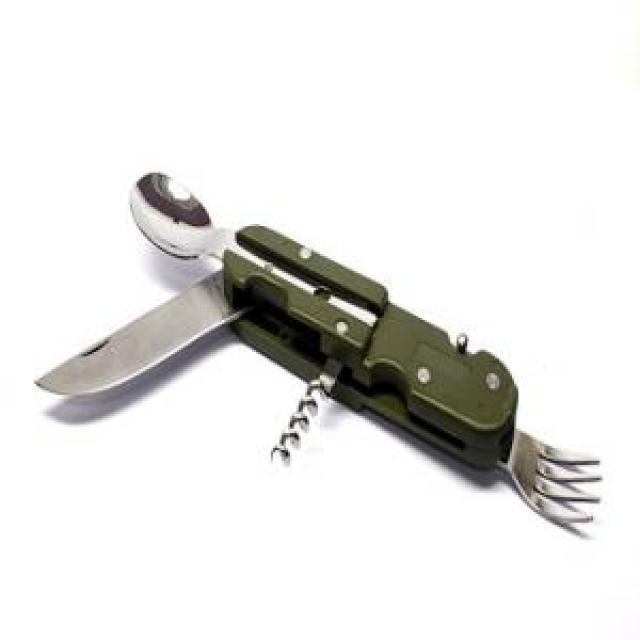knife: (30, 275, 291, 413)
